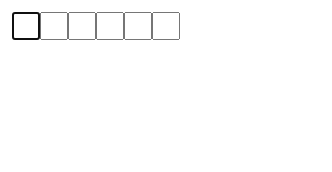
Test case: Test wordle › 渲染 并输入值
The image size is (332, 172).
Step 1. Type "a" into the 1st field → (26, 26), box [12, 12, 40, 40]
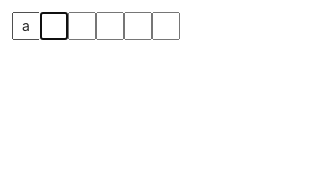
Step 2. Type "b" into the 2nd field → (54, 26), box [40, 12, 68, 40]
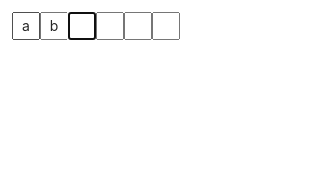
Step 3. Type "c" into the 3rd field → (82, 26), box [68, 12, 96, 40]
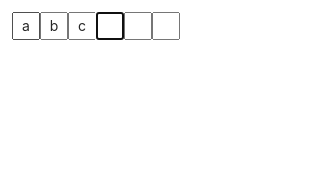
Step 4. Type "d" into the 4th field → (110, 26), box [96, 12, 124, 40]
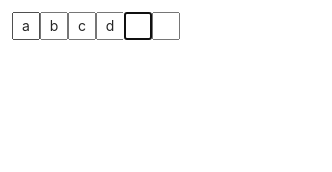
Step 5. Type "e" into the 5th field → (138, 26), box [124, 12, 152, 40]
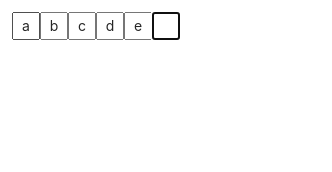
Step 6. Type "f" into the 6th field → (166, 26), box [152, 12, 180, 40]
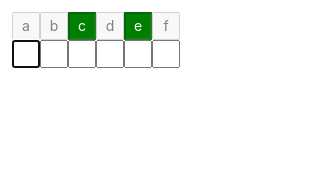
Expected: the number of fields is 12
